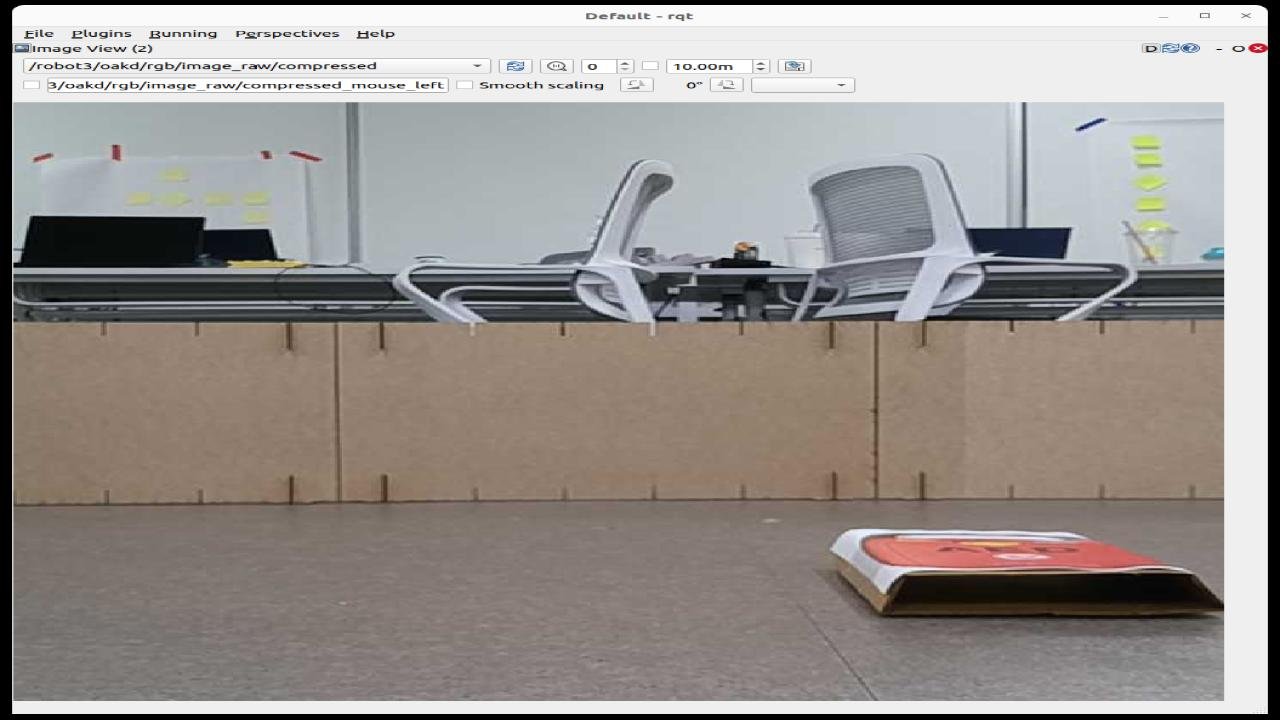AED: (859, 531, 1161, 570)
